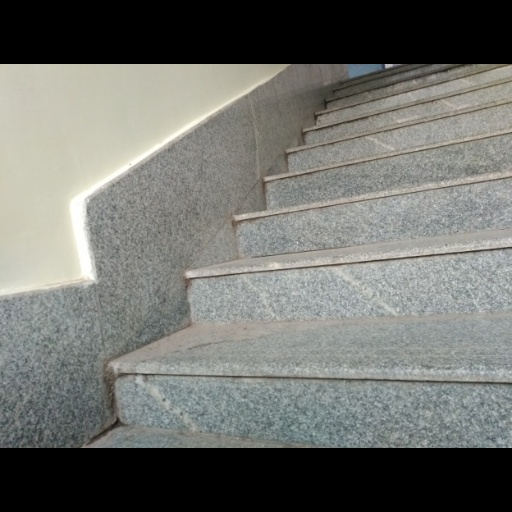Stairs: (94, 66, 512, 446)
